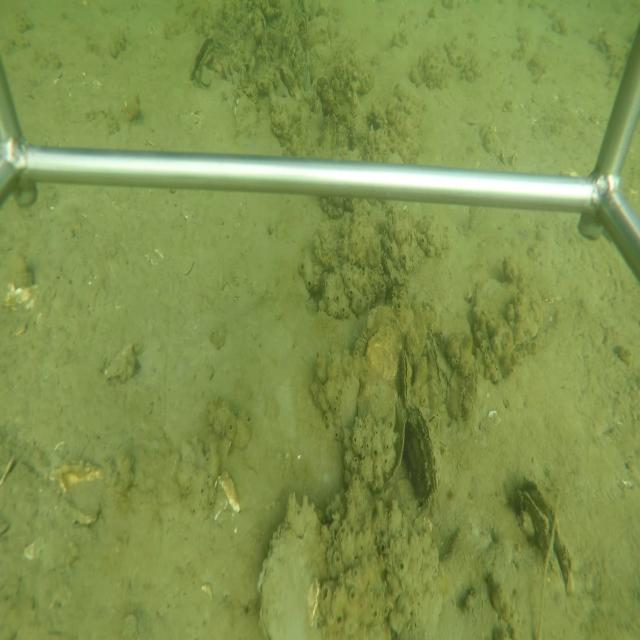Oyster-Closed: (341, 302, 408, 500), (254, 493, 330, 640), (469, 281, 546, 373), (405, 396, 442, 514), (425, 322, 446, 411), (401, 344, 417, 415)
Oyster-Open: (506, 472, 577, 606), (188, 34, 222, 86)
